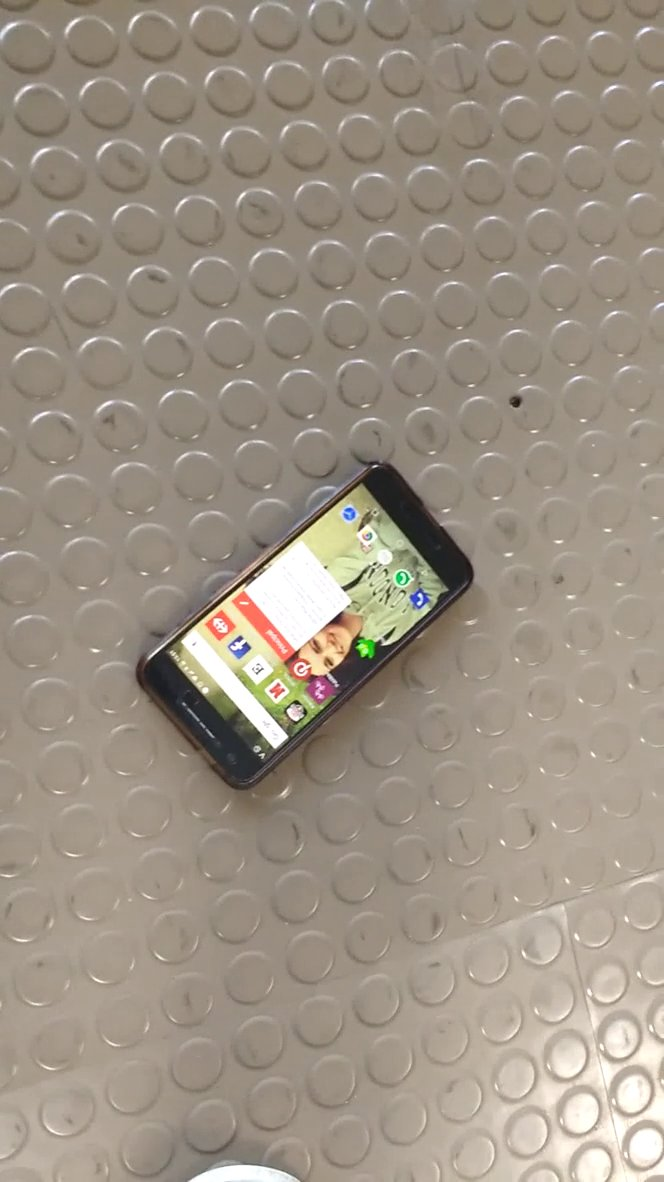phone: (126, 451, 494, 808)
